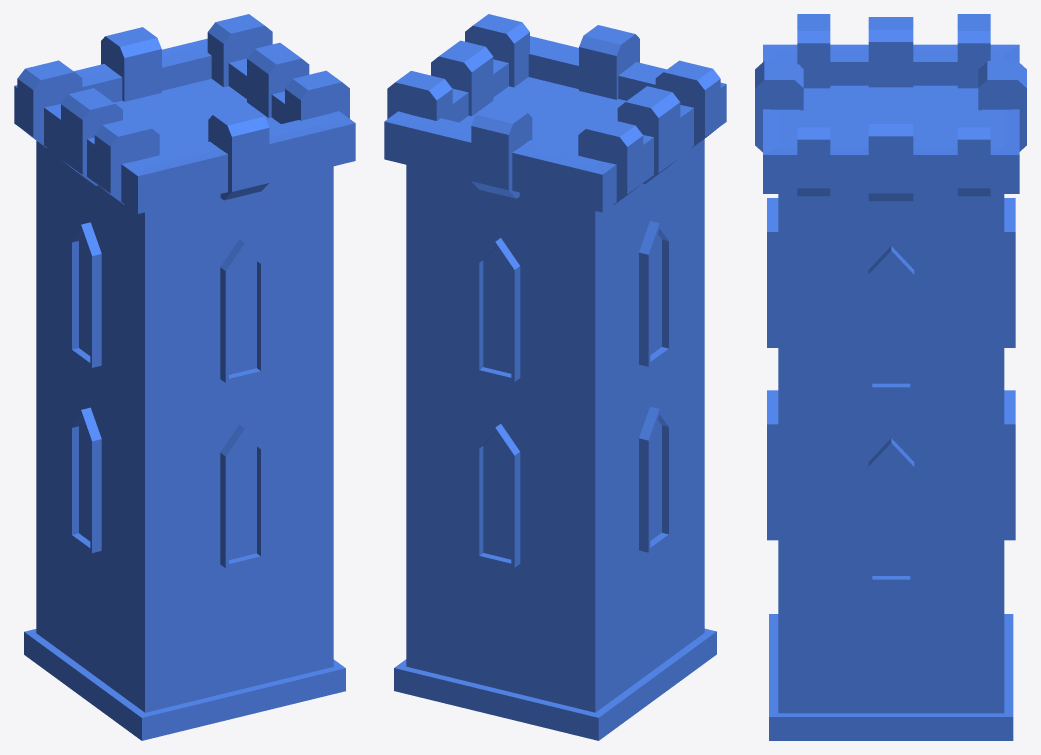
File: Tower_Stone_Variant3.fbx
3 renders of one model, left to right at view 1: azimuth 30°, elevation 25°; view 2: azimuth 150°, elevation 25°; view 3: azimuth 270°, elevation 25°, orthographic. The views are drawn at different scales.
Parts seen in each view (by area): view 1: Tower_Stone_Variant3; view 2: Tower_Stone_Variant3; view 3: Tower_Stone_Variant3.
Boxes of the visible parts, bbox=[...] form: Tower_Stone_Variant3: bbox=[14, 14, 355, 740]; Tower_Stone_Variant3: bbox=[384, 14, 726, 740]; Tower_Stone_Variant3: bbox=[755, 14, 1026, 740].
Bounding box in the file's own units: 254 × 605 × 241.
